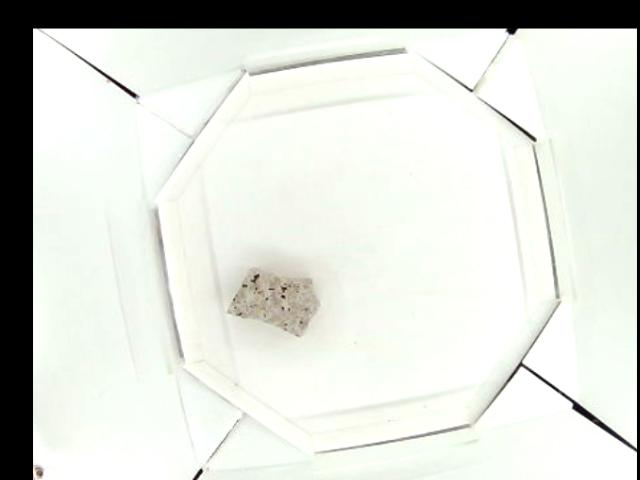China: (223, 267, 322, 336)
